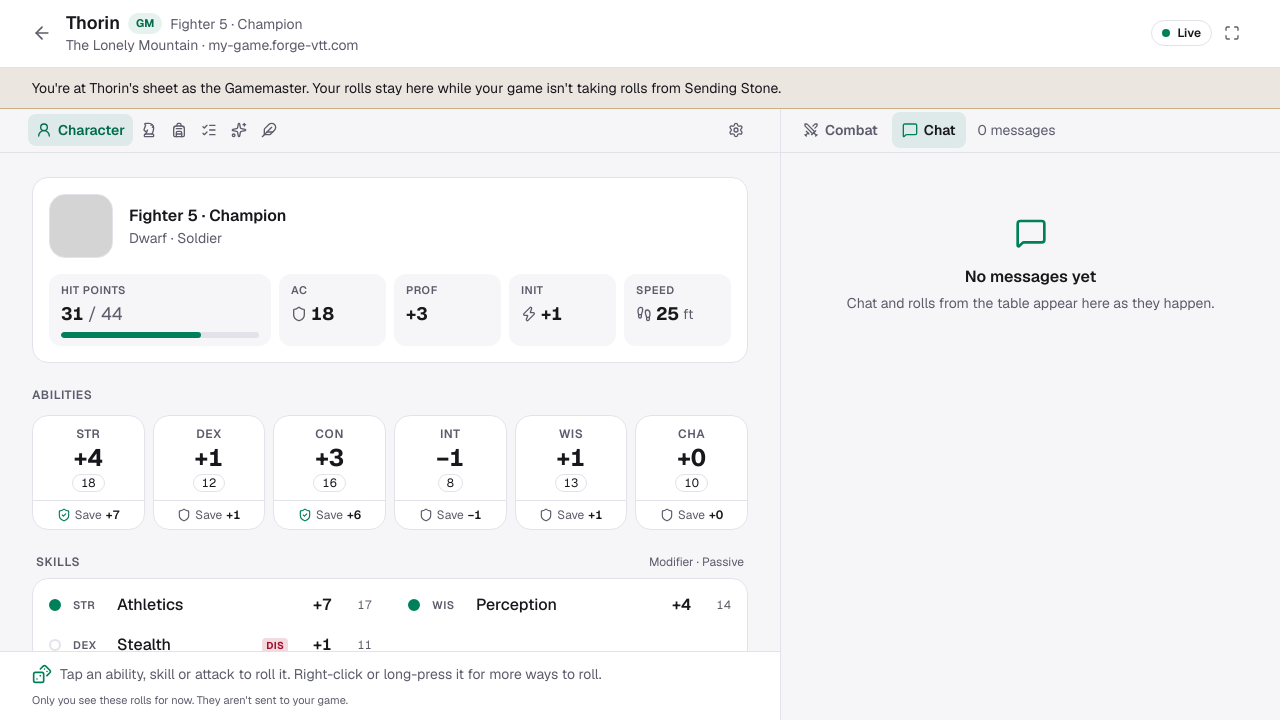
Test: components/game-table, notes › gives the sheet’s Biography tab the journal’s card through the seat’s API, for the Gamemaster
expect the element "Journal" is not shown: met
Click the tab named "Biography" at (269,130), box [255,114,283,146]
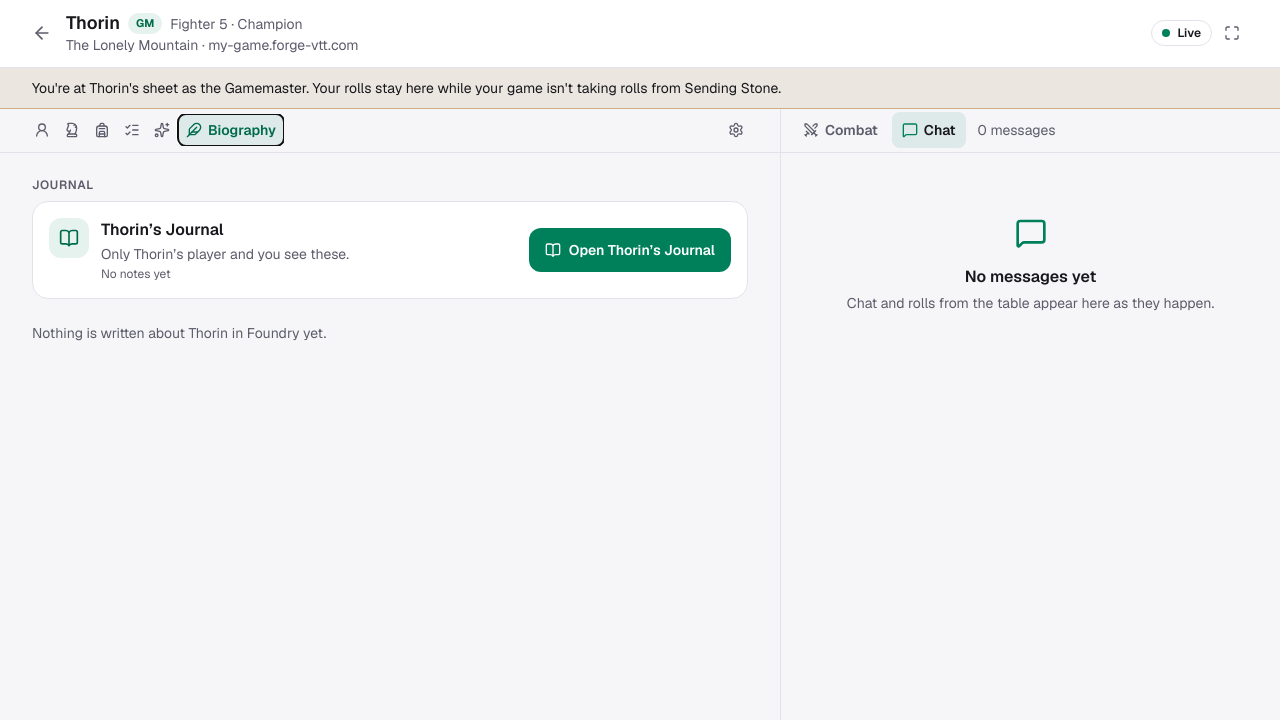
expect the text "Only Thorin’s player and you see these." is shown: met, box [101,244,349,264]
